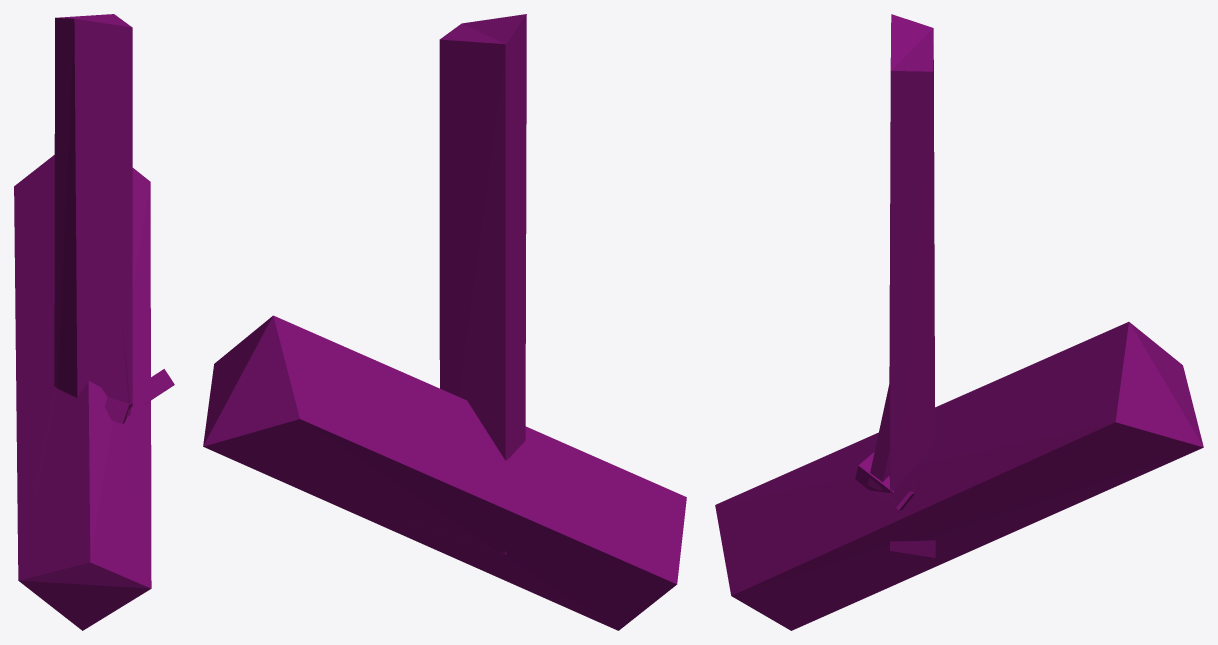
The picture shows the model from 3 angles, left to right: view 1: azimuth 30°, elevation 25°; view 2: azimuth 150°, elevation 25°; view 3: azimuth 270°, elevation 25°; orthographic projection. The views are drawn at different scales.
Visible parts, largest first — view 1: 857_Cube.3463; view 2: 857_Cube.3463; view 3: 857_Cube.3463.
Boxes of the visible parts, x1,y1,x2,y2 form: 857_Cube.3463: (14, 14, 174, 630); 857_Cube.3463: (203, 14, 686, 630); 857_Cube.3463: (715, 14, 1203, 630).
Size of the model in its own units: 7.69 by 15.45 by 10.75.
